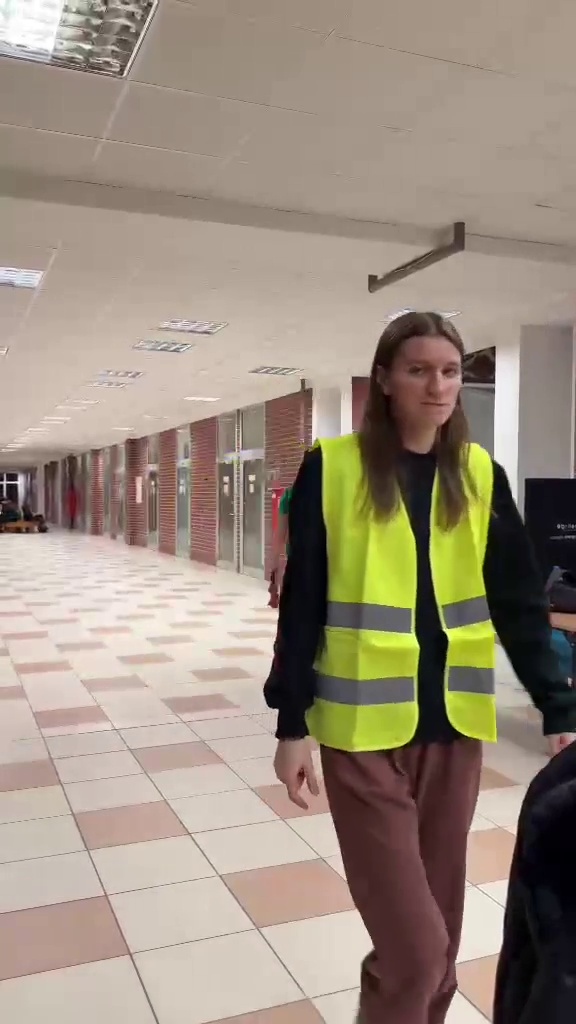vest: (281, 318, 555, 997)
